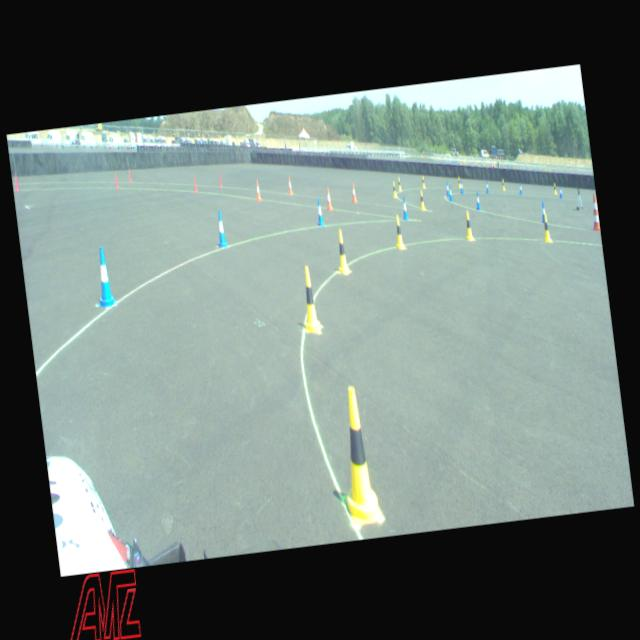blue_cone: (90, 245, 116, 308), (213, 209, 227, 247), (314, 197, 324, 226), (401, 196, 408, 220), (539, 201, 546, 222), (474, 190, 481, 210), (448, 184, 452, 201), (459, 180, 464, 193), (445, 182, 449, 196), (558, 185, 562, 198), (518, 182, 522, 194), (484, 181, 488, 192)
large_orange_cone: (589, 194, 600, 232)
orange_cone: (324, 187, 332, 210), (349, 182, 356, 202), (254, 180, 261, 200), (286, 176, 292, 194)
yellow_cone: (332, 384, 384, 526), (298, 265, 322, 334), (333, 228, 351, 274), (392, 214, 405, 249), (462, 210, 474, 241), (540, 215, 552, 242), (418, 189, 425, 209), (396, 177, 402, 190), (392, 180, 396, 197), (421, 175, 425, 188), (501, 178, 505, 190), (552, 182, 556, 194), (457, 176, 460, 187)
